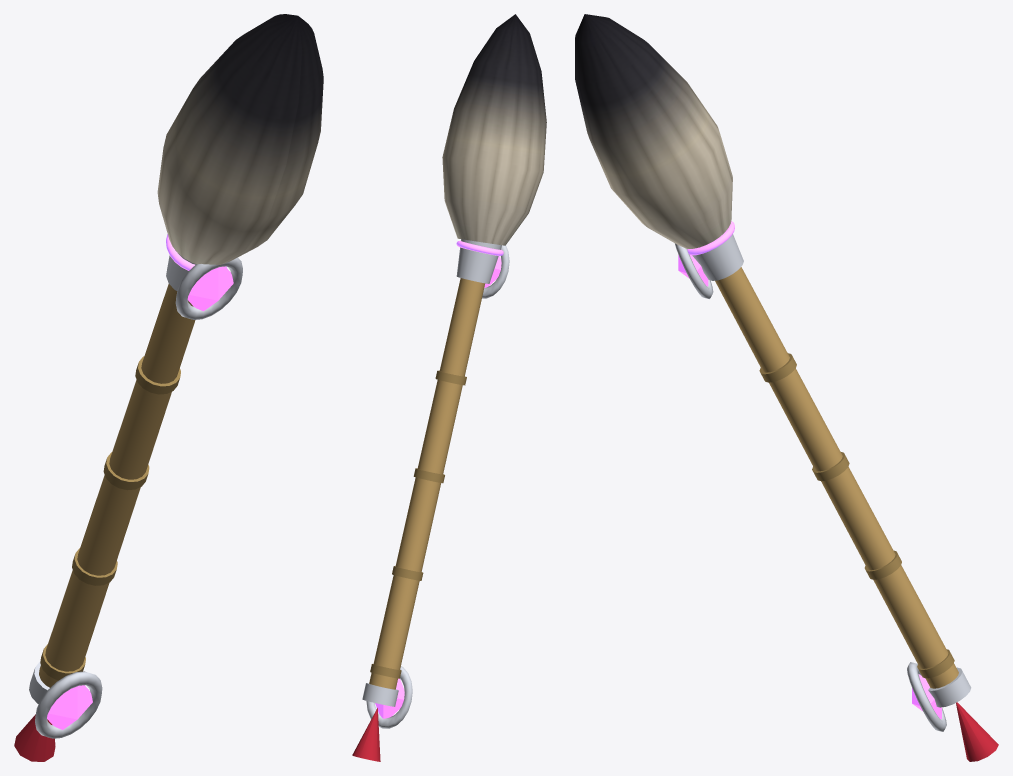
The model's file is hand_eqko2.glb.
3 renders of one model, left to right at view 1: azimuth 30°, elevation 25°; view 2: azimuth 150°, elevation 25°; view 3: azimuth 270°, elevation 25°, orthographic. The views are drawn at different scales.
Bounding box in the file's own units: 0.9447 × 6.38 × 3.25.
7 materials, 1 textured.
